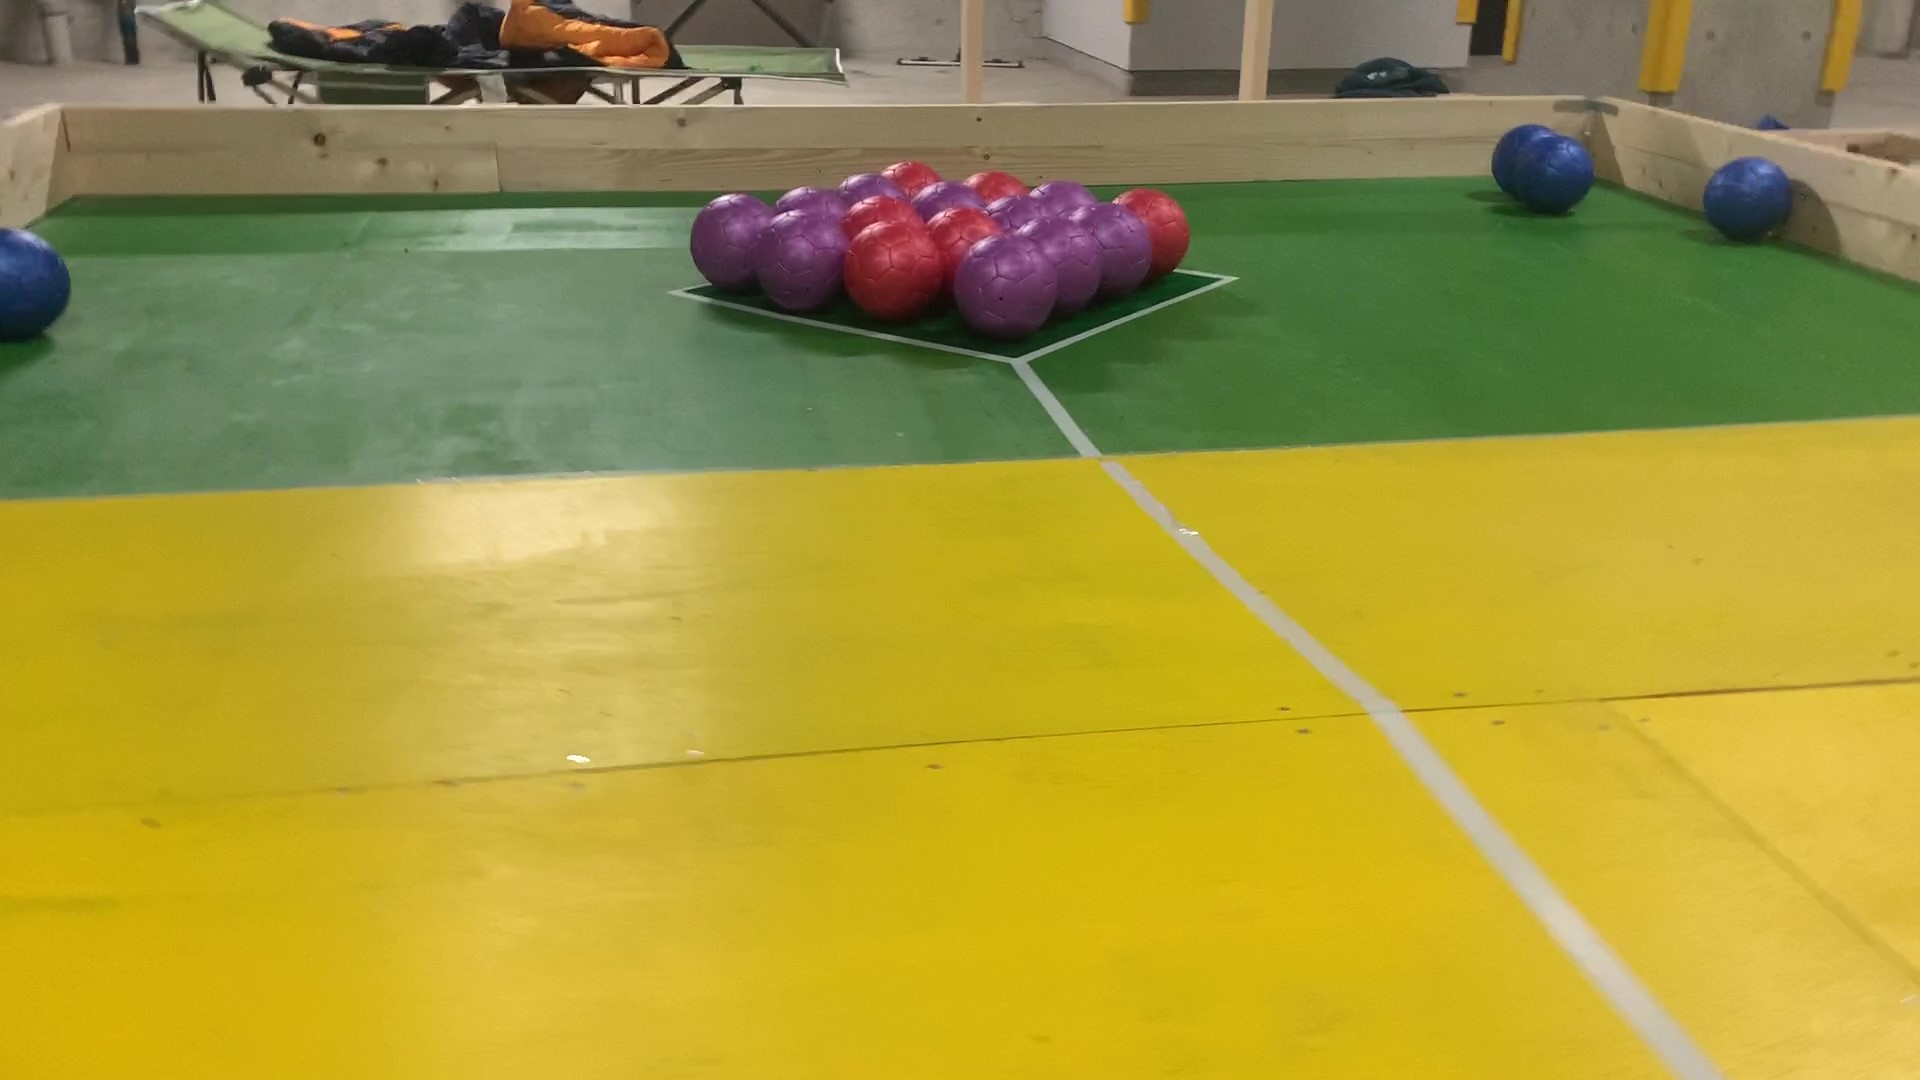blue: (1721, 162, 1784, 235), (6, 235, 49, 327), (1531, 143, 1581, 205), (1500, 129, 1514, 190)
purple: (964, 250, 1043, 323), (765, 222, 835, 295), (699, 201, 748, 289), (1052, 226, 1099, 302), (1105, 207, 1142, 287), (784, 187, 842, 213), (1040, 186, 1092, 211), (843, 176, 896, 199), (919, 192, 982, 210), (997, 204, 1046, 226)
red: (860, 237, 930, 309), (1153, 192, 1192, 275), (933, 213, 989, 242), (854, 202, 913, 225), (974, 171, 1019, 198), (885, 164, 934, 187)
